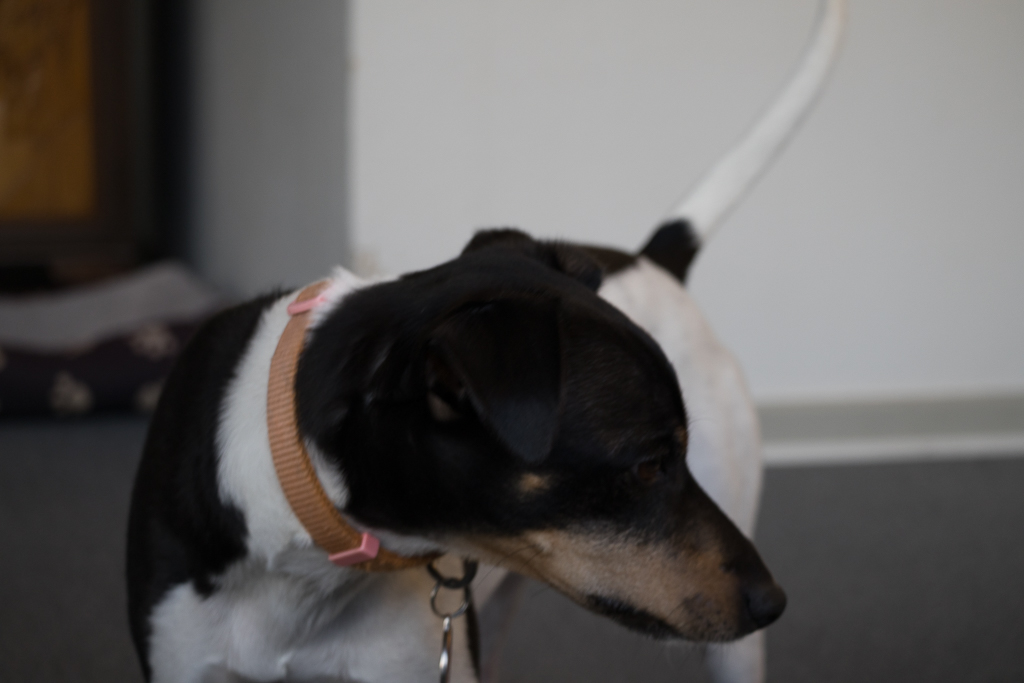Dog: (112, 0, 854, 683)
